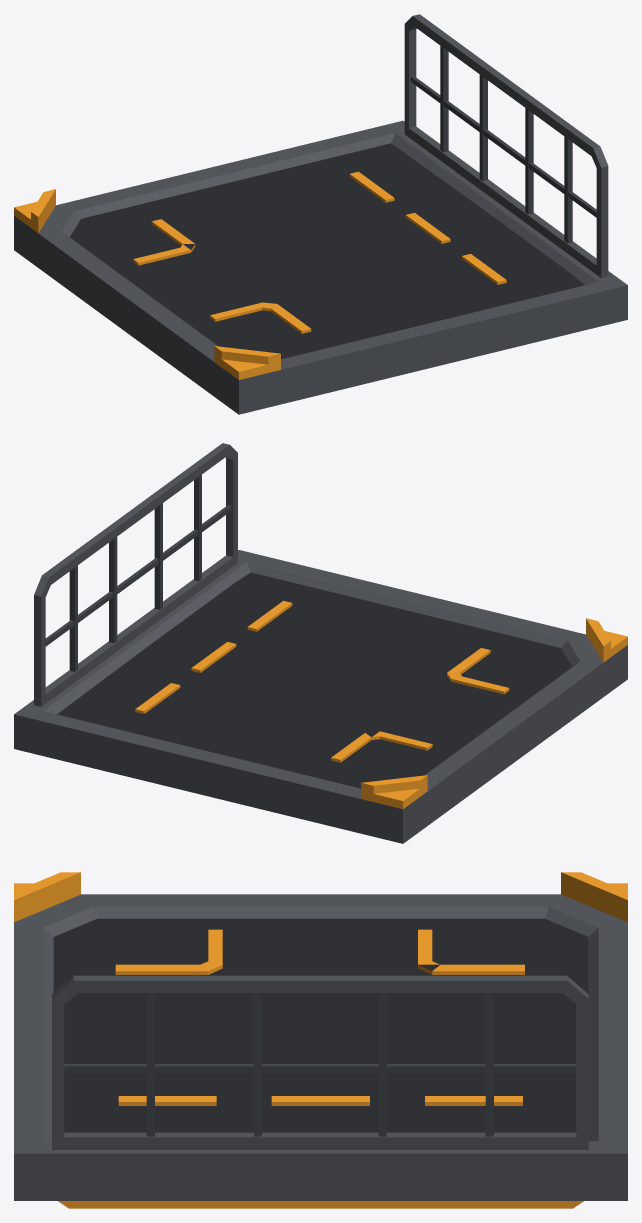
Rendered from SM_T-shaped_platform.glb.
The picture shows the model from 3 angles, top to bottom: view 1: azimuth 30°, elevation 25°; view 2: azimuth 150°, elevation 25°; view 3: azimuth 270°, elevation 25°; orthographic projection. The views are drawn at different scales.
Parts seen in each view (by area): view 1: SM_T-shaped_platform; view 2: SM_T-shaped_platform; view 3: SM_T-shaped_platform.
Boxes of the visible parts, box(x1,y1,x2,y2) form: SM_T-shaped_platform: box(14, 14, 627, 414); SM_T-shaped_platform: box(14, 443, 627, 843); SM_T-shaped_platform: box(14, 872, 627, 1208).
Size of the model in its own units: 4 by 1.69 by 4.
1 material, 1 textured.
